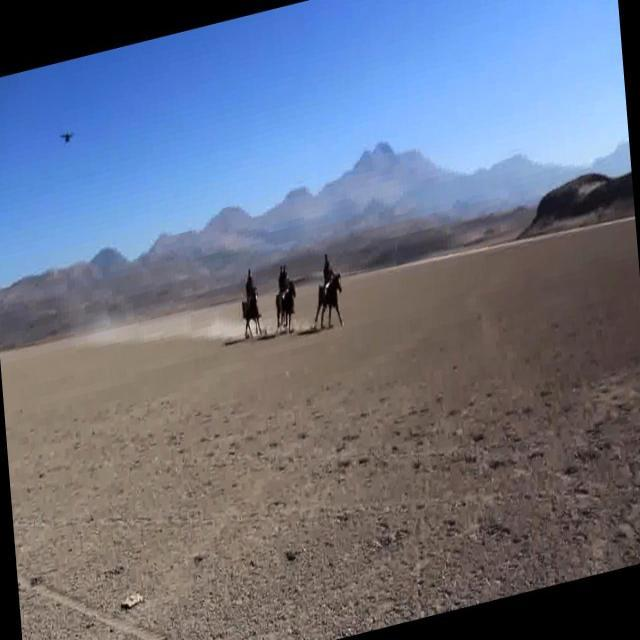drone: (60, 124, 78, 150)
